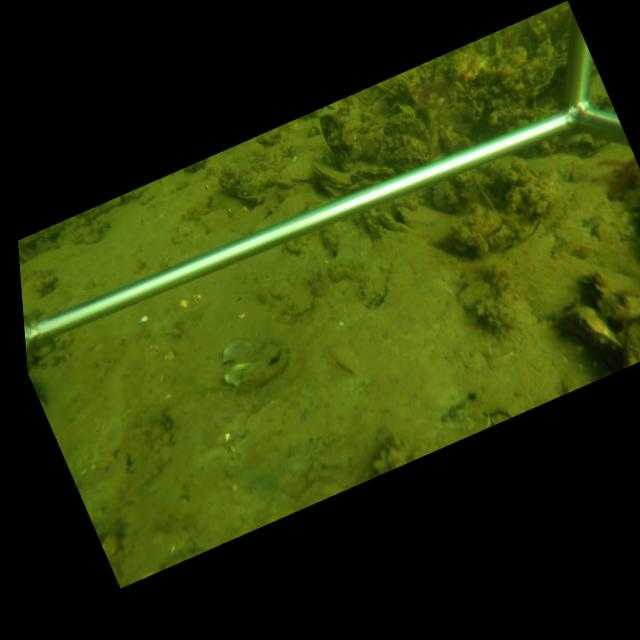Oyster-Closed: (565, 303, 623, 353), (395, 199, 452, 226), (311, 161, 353, 185), (379, 211, 415, 232), (428, 116, 442, 163), (217, 177, 243, 195), (357, 165, 397, 176), (287, 172, 315, 184), (284, 239, 303, 256)
Oyster-Open: (224, 351, 289, 395)
